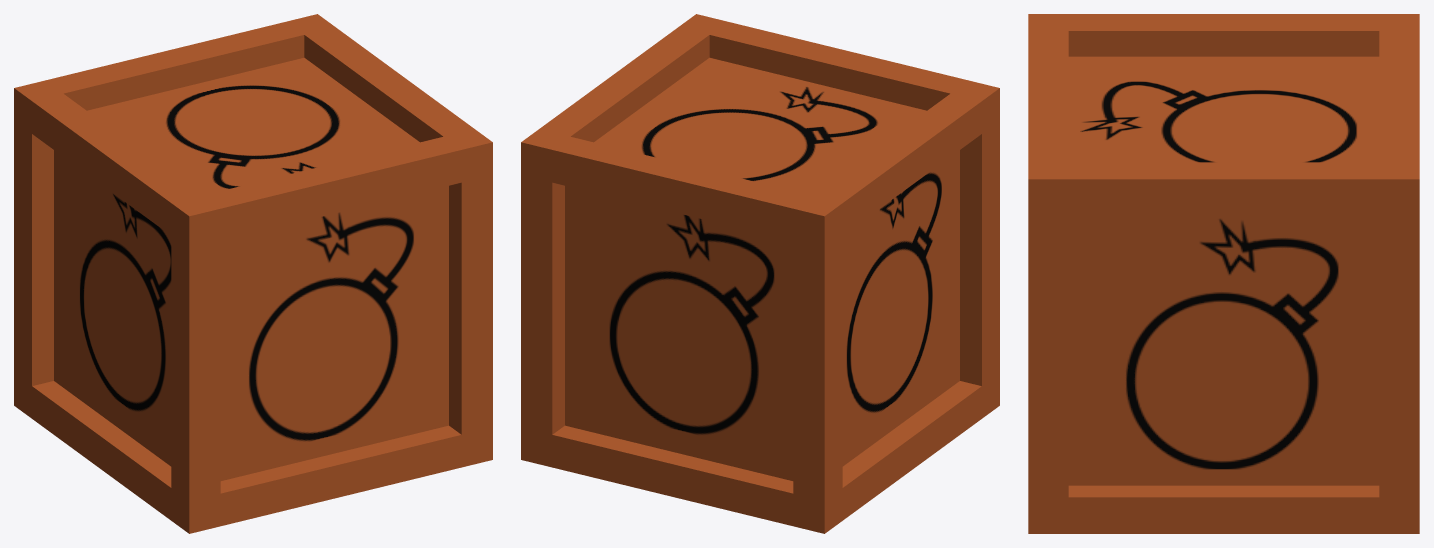
File: brokenPaintBombPowerupBox.fbx
3 renders of one model, left to right at view 1: azimuth 30°, elevation 25°; view 2: azimuth 150°, elevation 25°; view 3: azimuth 270°, elevation 25°, orthographic. The views are drawn at different scales.
Parts seen in each view (by area): view 1: Cube, Cube_cell.003, Cube_cell.008, Cube_cell, Cube_cell.004, Cube_cell.001, Cube_cell.005, Cube_cell.002, Cube_cell.007, Cube_cell.006; view 2: Cube, Cube_cell.006, Cube_cell.003, Cube_cell.005, Cube_cell.008, Cube_cell.009, Cube_cell.004, Cube_cell.002, Cube_cell; view 3: Cube, Cube_cell.008, Cube_cell.002, Cube_cell.009, Cube_cell.004, Cube_cell.001, Cube_cell.005.
Boxes of the visible parts, box(x1,y1,x2,y2) form: Cube: box(14, 14, 492, 533); Cube_cell.003: box(104, 146, 339, 533); Cube_cell.008: box(328, 86, 492, 338); Cube_cell: box(18, 250, 188, 533); Cube_cell.004: box(19, 54, 255, 298); Cube_cell.001: box(272, 344, 449, 451); Cube_cell.005: box(14, 51, 168, 252); Cube_cell.002: box(184, 16, 383, 114); Cube_cell.007: box(160, 196, 220, 256); Cube_cell.006: box(14, 247, 18, 406); Cube: box(521, 14, 999, 533); Cube_cell.006: box(672, 329, 828, 533); Cube_cell.003: box(828, 64, 999, 404); Cube_cell.005: box(669, 177, 842, 373); Cube_cell.008: box(620, 14, 848, 86); Cube_cell.009: box(521, 284, 685, 480); Cube_cell.004: box(680, 153, 914, 281); Cube_cell.002: box(521, 106, 680, 307); Cube_cell: box(790, 356, 993, 492); Cube: box(1028, 14, 1419, 533); Cube_cell.008: box(1028, 96, 1219, 372); Cube_cell.002: box(1201, 134, 1419, 338); Cube_cell.009: box(1194, 327, 1419, 533); Cube_cell.004: box(1217, 14, 1409, 122); Cube_cell.001: box(1028, 364, 1212, 533); Cube_cell.005: box(1410, 14, 1419, 96).
Size of the model in its own units: 200 by 200 by 200.
1 material, 1 textured.
